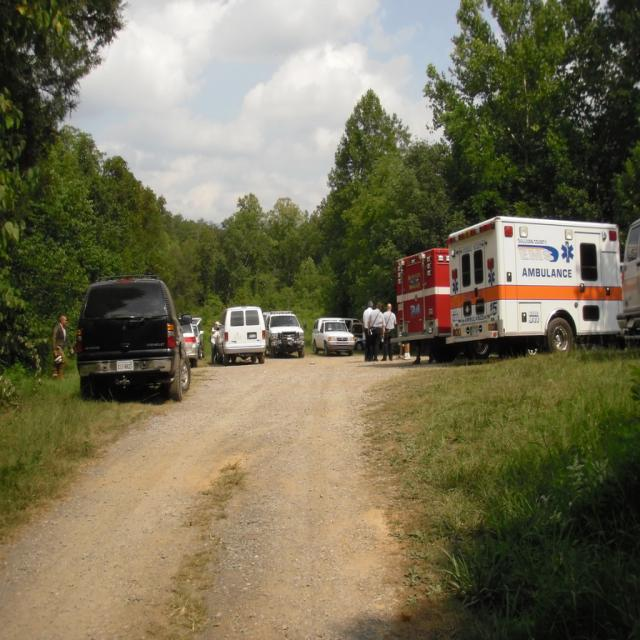Ambulance: (444, 212, 632, 354)
